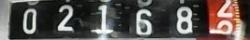digits: (90, 1, 118, 36), (56, 4, 74, 32), (134, 8, 152, 36), (176, 6, 193, 34), (212, 0, 234, 20), (22, 7, 36, 34)
